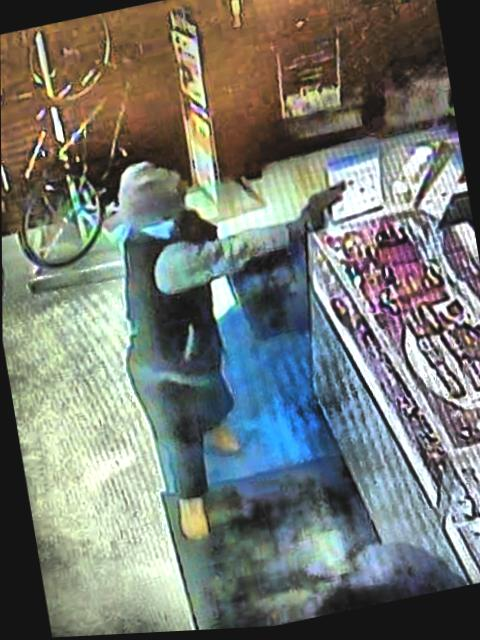pistol: (296, 175, 357, 241)
